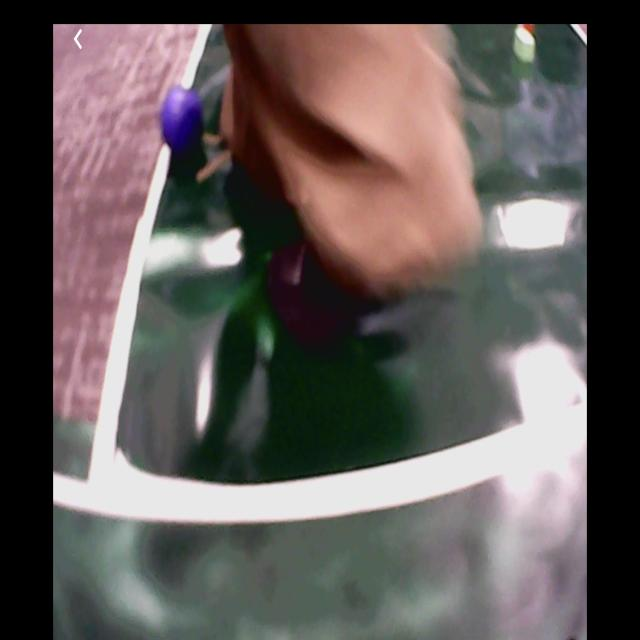ball: (163, 86, 205, 147)
